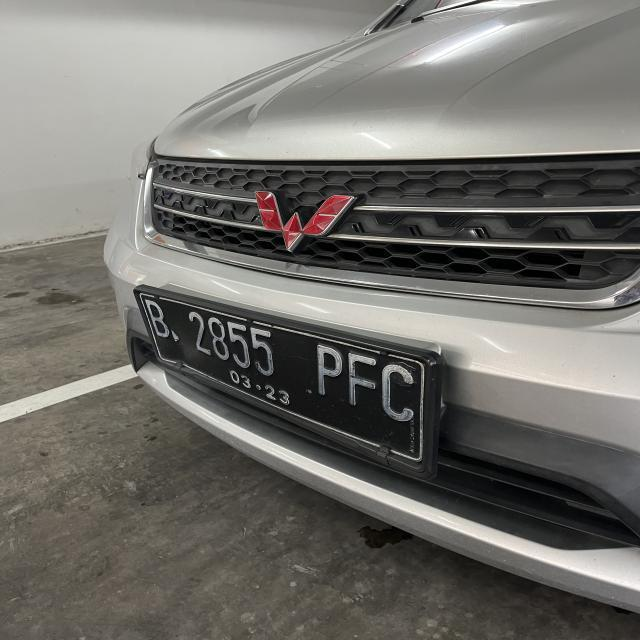2: (190, 313, 208, 358)
5: (229, 320, 252, 368), (252, 326, 272, 378)
8: (210, 316, 229, 365)
B: (140, 296, 174, 342)
C: (381, 360, 418, 427)
F: (347, 350, 377, 408)
P: (314, 342, 341, 399)
